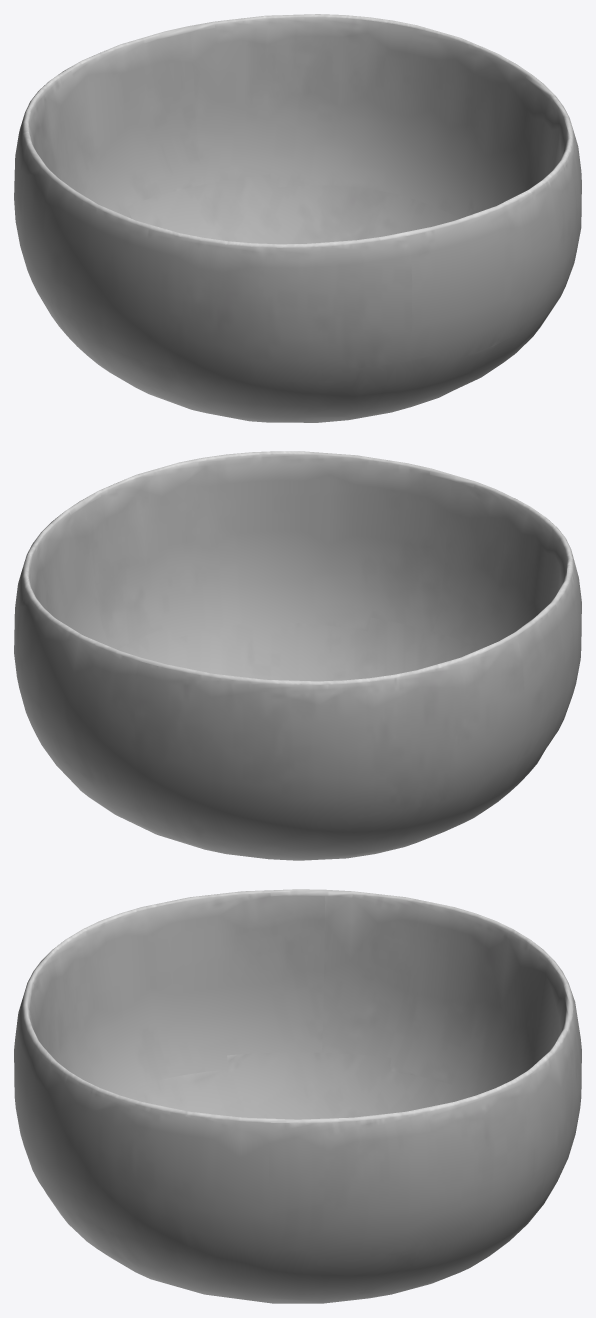
Rendered from bowl.glb.
3 renders of one model, top to bottom at view 1: azimuth 30°, elevation 25°; view 2: azimuth 150°, elevation 25°; view 3: azimuth 270°, elevation 25°, orthographic. The views are drawn at different scales.
Visible parts, largest first — view 1: Object_2; view 2: Object_2; view 3: Object_2.
Part boxes in pixels (x1,y1,x2,y2): Object_2: (14, 14, 581, 422); Object_2: (14, 451, 581, 860); Object_2: (14, 889, 581, 1303).
Size of the model in its own units: 1.8 by 0.8778 by 1.79.
Materials: 1 (1 with a texture image).
